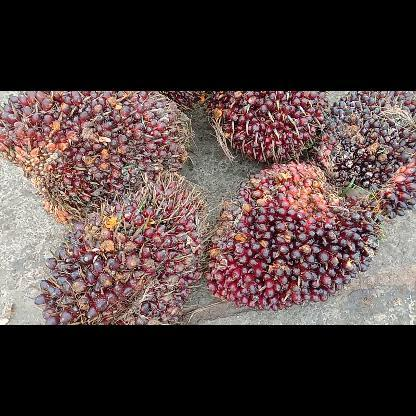Kurang masak: (202, 158, 384, 312), (0, 90, 198, 228), (31, 176, 209, 324), (314, 90, 414, 224), (195, 91, 330, 167)
